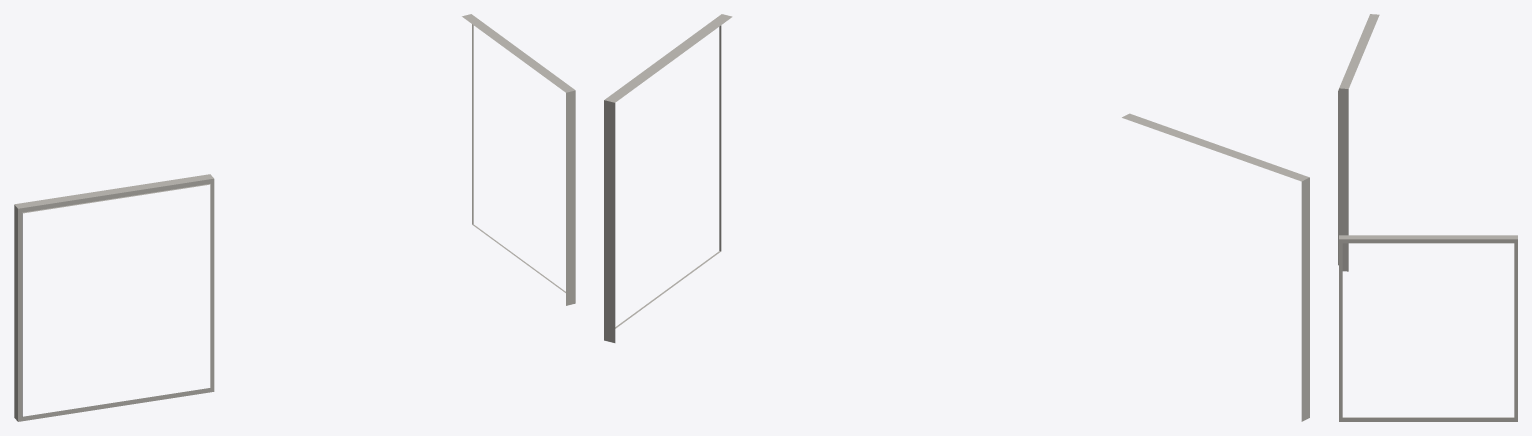
File: kd_stage_135c43_4_126.glb
3 views of the same model, side by side, from view 1: azimuth 30°, elevation 25°; view 2: azimuth 150°, elevation 25°; view 3: azimuth 270°, elevation 25° (orthographic). The views are drawn at different scales.
Parts seen in each view (by area): view 1: kd_stage_135c43_4_126; view 2: kd_stage_135c43_4_126; view 3: kd_stage_135c43_4_126.
Boxes of the visible parts, x1,y1,x2,y2 form: kd_stage_135c43_4_126: [14, 14, 575, 421]; kd_stage_135c43_4_126: [604, 14, 1309, 421]; kd_stage_135c43_4_126: [1338, 14, 1517, 421].
Bounding box in the file's own units: 1.64 × 0.6208 × 0.554.
1 material, 1 textured.
